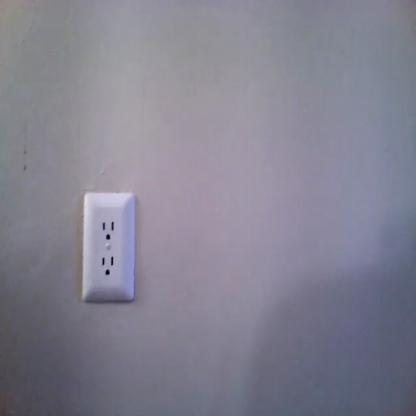OUTLET: (83, 190, 136, 304)
